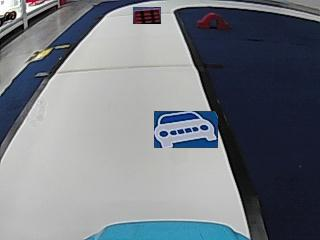bridge: (198, 12, 228, 29)
